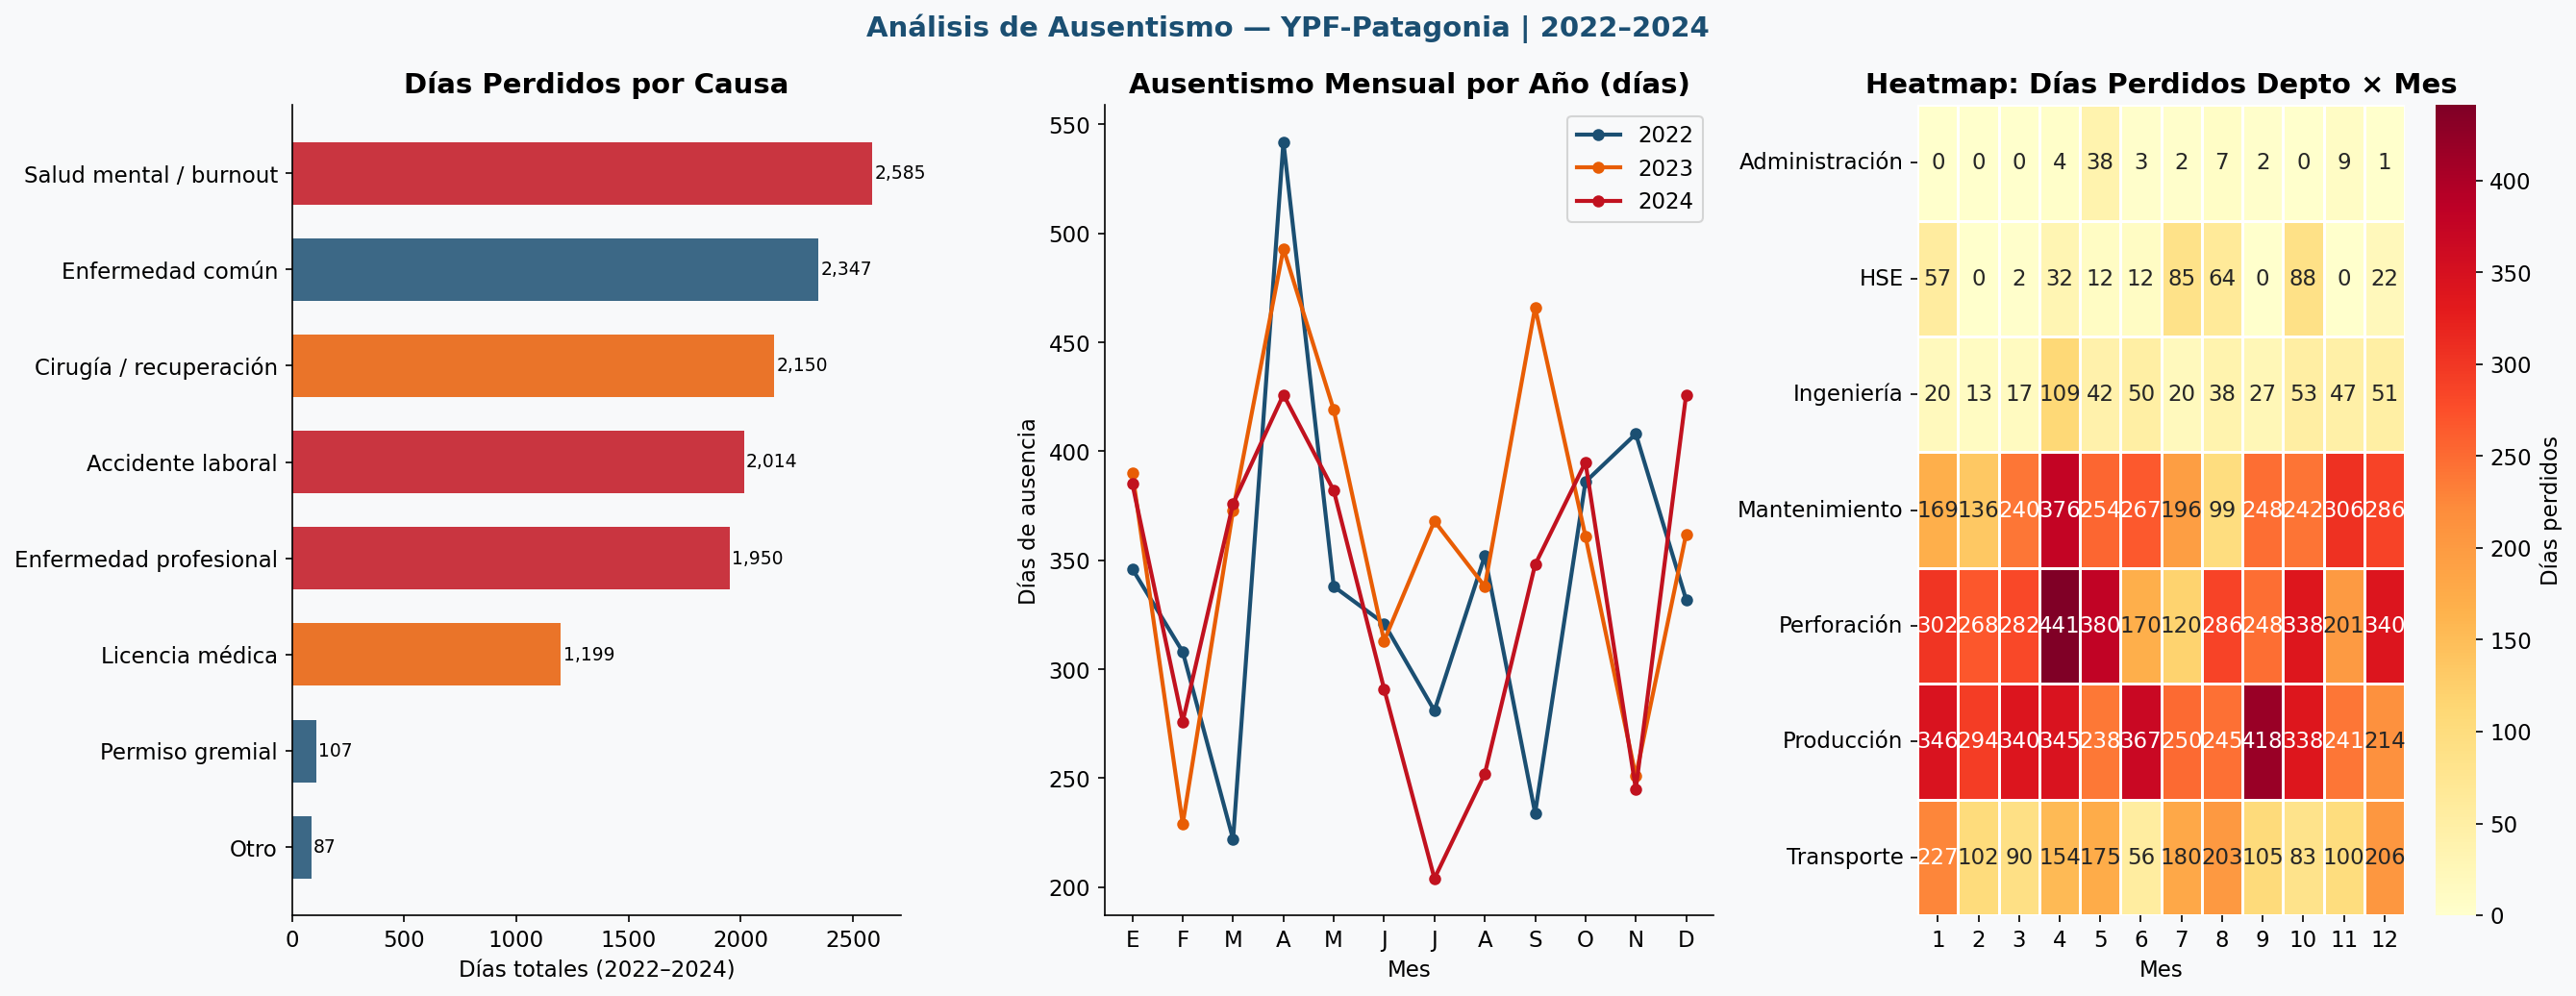

The dashboard page shown, as its layout file describes it:
{"tool":"powerbi","page":{"name":"Analisis de Ausentismo","canvas":[1280,720],"ordinal":2},"visuals":[{"type":"unknown","box":[0,0,1280,50],"z":500},{"type":"unknown","box":[14,60,270,90],"z":2000},{"type":"unknown","box":[298,60,270,90],"z":2000},{"type":"unknown","box":[582,60,270,90],"z":2000},{"type":"unknown","box":[866,60,270,90],"z":2000},{"type":"unknown","box":[14,165,620,260],"z":2000},{"type":"unknown","box":[648,165,610,260],"z":2000},{"type":"unknown","box":[14,440,620,240],"z":2000},{"type":"unknown","box":[648,440,610,240],"z":2000}]}

Visuals, with their boxes on the page's 1280x720 design canvas (x1, y1, x2, y2). These are canvas units, not pixel positions in the 2576x996 screenshot, which may show the page scaled, cropped or inside an application window:
unknown: {"x1": 0, "y1": 0, "x2": 1280, "y2": 50}
unknown: {"x1": 14, "y1": 60, "x2": 284, "y2": 150}
unknown: {"x1": 298, "y1": 60, "x2": 568, "y2": 150}
unknown: {"x1": 582, "y1": 60, "x2": 852, "y2": 150}
unknown: {"x1": 866, "y1": 60, "x2": 1136, "y2": 150}
unknown: {"x1": 14, "y1": 165, "x2": 634, "y2": 425}
unknown: {"x1": 648, "y1": 165, "x2": 1258, "y2": 425}
unknown: {"x1": 14, "y1": 440, "x2": 634, "y2": 680}
unknown: {"x1": 648, "y1": 440, "x2": 1258, "y2": 680}
